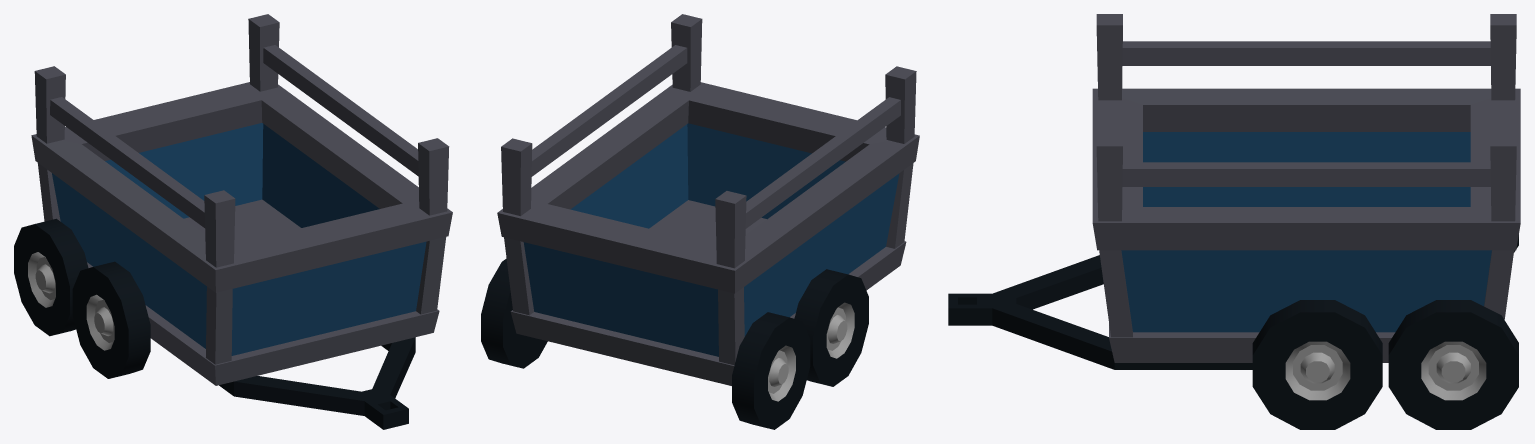
The model's file is Trailer_1.fbx.
3 renders of one model, left to right at view 1: azimuth 30°, elevation 25°; view 2: azimuth 150°, elevation 25°; view 3: azimuth 270°, elevation 25°, orthographic. The views are drawn at different scales.
Visible parts, largest first — view 1: Trailer_1; view 2: Trailer_1; view 3: Trailer_1.
Boxes of the visible parts, <box> form: Trailer_1: <box>14,14,452,429</box>; Trailer_1: <box>481,14,919,429</box>; Trailer_1: <box>948,14,1520,429</box>.
Bounding box in the file's own units: 61.72 × 50.48 × 95.94.
